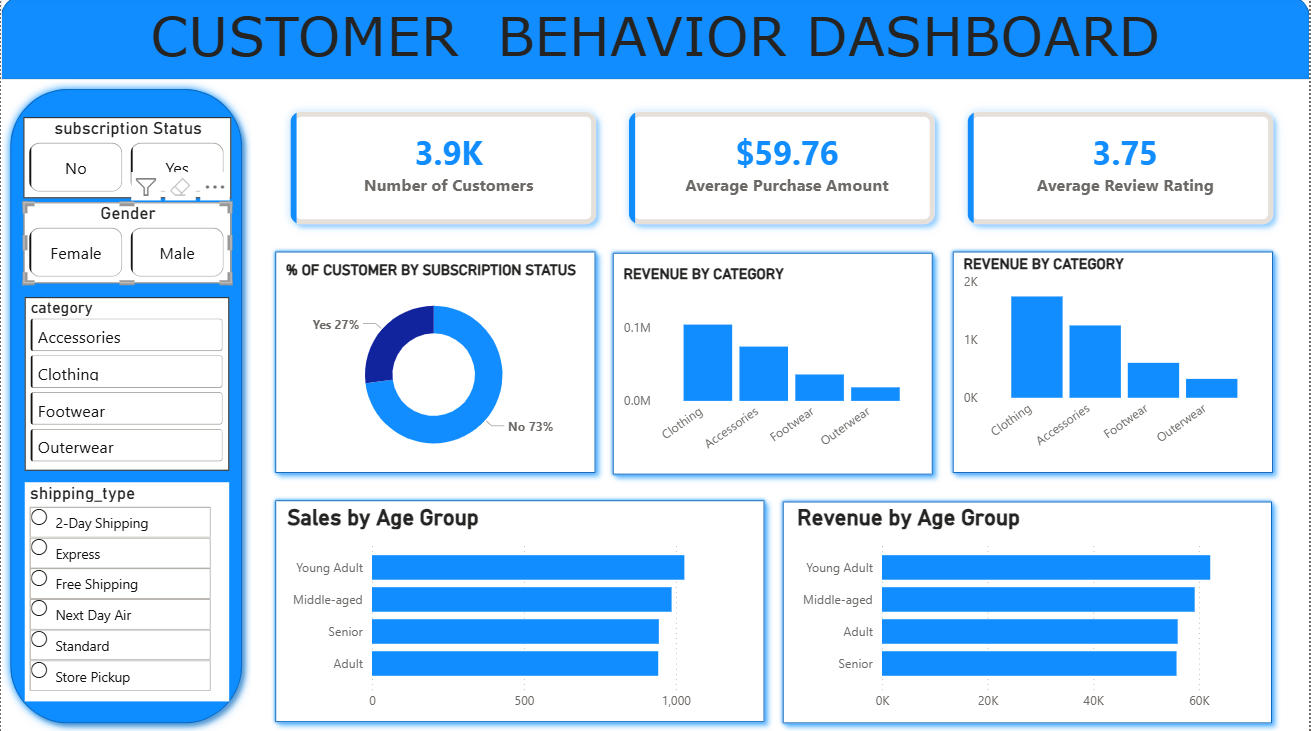

Layout of this report page (visuals, bound fields, positions):
{"tool":"powerbi","page":{"name":"Page 1","canvas":[1280,720],"ordinal":0},"visuals":[{"type":"cardVisual","fields":{"Data":["project_db customer.Number of Customers","project_db customer.Average Purchase Amount","project_db customer.Average Review Rating"]},"box":[254.6,84.9,1019.8,168.3],"z":0},{"type":"shape","box":[0,0,1280.3,81.9],"z":1000},{"type":"textbox","box":[0,0,1280.3,81.9],"z":2000},{"type":"shape","box":[259.2,240.9,331.4,234.8],"z":3000},{"type":"shape","box":[922,240.9,331.4,234.8],"z":3500},{"type":"shape","box":[589.9,242.1,331.1,235.1],"z":3750},{"type":"shape","box":[755.5,485.6,496.7,235.1],"z":3875},{"type":"shape","box":[0,82.1,244.9,638.6],"z":4000},{"type":"donutChart","title":"% OF CUSTOMER BY SUBSCRIPTION STATUS","fields":{"Category":["project_db customer.subscription_status"],"Y":["CountNonNull(project_db customer.customer_id)"]},"box":[274.1,258.8,299.1,205.9],"z":5000},{"type":"clusteredColumnChart","title":"REVENUE BY CATEGORY","fields":{"Y":["Sum(project_db customer.purchase_amount)"],"Category":["project_db customer.category"]},"box":[603.8,263,303.3,196.2],"z":6000},{"type":"clusteredColumnChart","title":"REVENUE BY CATEGORY","fields":{"Y":["CountNonNull(project_db customer.customer_id)"],"Category":["project_db customer.category"]},"box":[936.3,253.2,301.9,205.9],"z":7000},{"type":"advancedSlicerVisual","title":"subscription Status","fields":{"Values":["project_db customer.subscription_status"]},"box":[22.3,118.3,203.1,79.3],"z":8000},{"type":"advancedSlicerVisual","title":"Gender","fields":{"Values":["project_db customer.gender"]},"box":[22.3,201.7,203.1,79.3],"z":9000},{"type":"advancedSlicerVisual","fields":{"Values":["project_db customer.category"]},"box":[23.7,295,200.3,169.7],"z":10000},{"type":"listSlicer","fields":{"Values":["project_db customer.shipping_type"]},"box":[23.7,475.8,200.3,214.3],"z":11000},{"type":"clusteredBarChart","title":"Revenue by Age Group","fields":{"Y":["Sum(project_db customer.purchase_amount)"],"Category":["project_db customer.age_group"]},"box":[773.6,498.1,464.7,210.1],"z":12000},{"type":"shape","box":[258.8,484.2,496.7,235.1],"z":12001},{"type":"clusteredBarChart","title":"Sales by Age Group","fields":{"Category":["project_db customer.age_group"],"Y":["CountNonNull(project_db customer.customer_id)"]},"box":[275.5,498.1,464.7,210.1],"z":12002}]}

Visuals, with their boxes in screenshot pixels (x1, y1, x2, y2), scaled from the page's 1280x720 canvas onto the 1311x731 screenshot:
cardVisual - project_db customer.Number of Customers x project_db customer.Average Purchase Amount: (left=261, top=86, right=1305, bottom=257)
shape: (left=0, top=0, right=1310, bottom=83)
textbox: (left=0, top=0, right=1310, bottom=83)
shape: (left=265, top=245, right=605, bottom=483)
shape: (left=944, top=245, right=1284, bottom=483)
shape: (left=604, top=246, right=943, bottom=484)
shape: (left=774, top=493, right=1283, bottom=730)
shape: (left=0, top=83, right=251, bottom=730)
"% OF CUSTOMER BY SUBSCRIPTION STATUS" donutChart: (left=281, top=263, right=587, bottom=472)
"REVENUE BY CATEGORY" clusteredColumnChart: (left=618, top=267, right=929, bottom=466)
"REVENUE BY CATEGORY" clusteredColumnChart: (left=959, top=257, right=1268, bottom=466)
"subscription Status" advancedSlicerVisual: (left=23, top=120, right=231, bottom=201)
"Gender" advancedSlicerVisual: (left=23, top=205, right=231, bottom=285)
advancedSlicerVisual - project_db customer.category: (left=24, top=300, right=229, bottom=472)
listSlicer - project_db customer.shipping_type: (left=24, top=483, right=229, bottom=701)
"Revenue by Age Group" clusteredBarChart: (left=792, top=506, right=1268, bottom=719)
shape: (left=265, top=492, right=774, bottom=730)
"Sales by Age Group" clusteredBarChart: (left=282, top=506, right=758, bottom=719)
